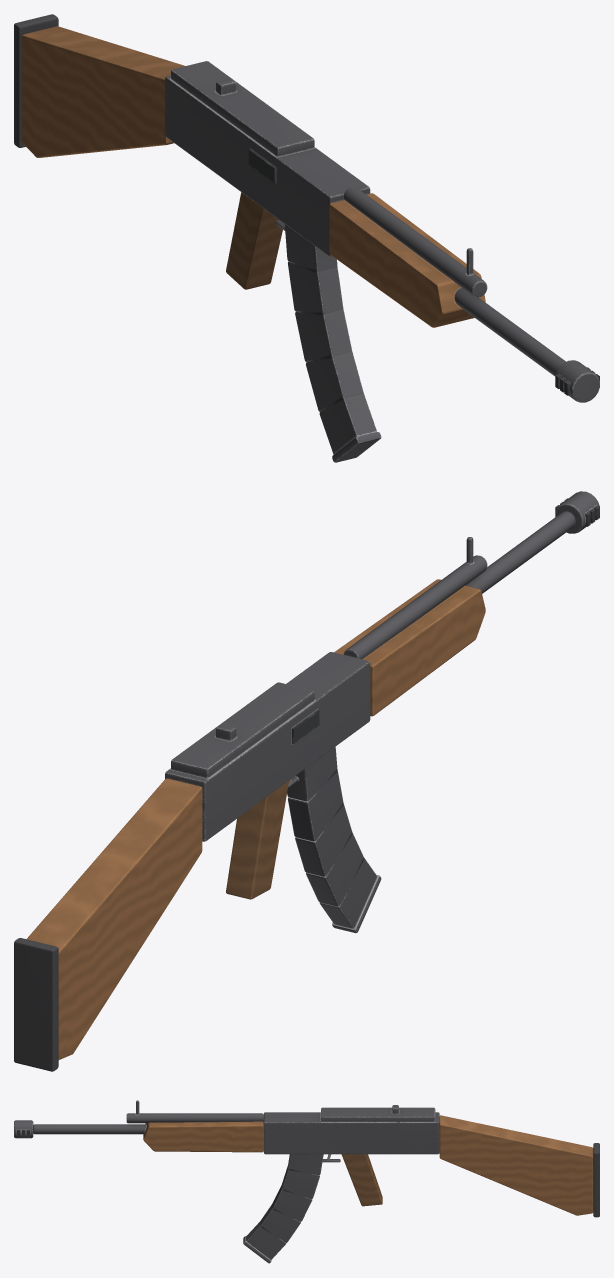
The picture shows the model from 3 angles, top to bottom: view 1: azimuth 30°, elevation 25°; view 2: azimuth 150°, elevation 25°; view 3: azimuth 270°, elevation 25°; orthographic projection. The views are drawn at different scales.
Visible parts, largest first — view 1: ak47; view 2: ak47; view 3: ak47.
Part boxes in pixels (x1,y1,x2,y2): ak47: [14, 14, 599, 462]; ak47: [14, 491, 599, 1071]; ak47: [14, 1100, 599, 1263].
Bounding box in the file's own units: 0.05 × 0.3218 × 1.07.
